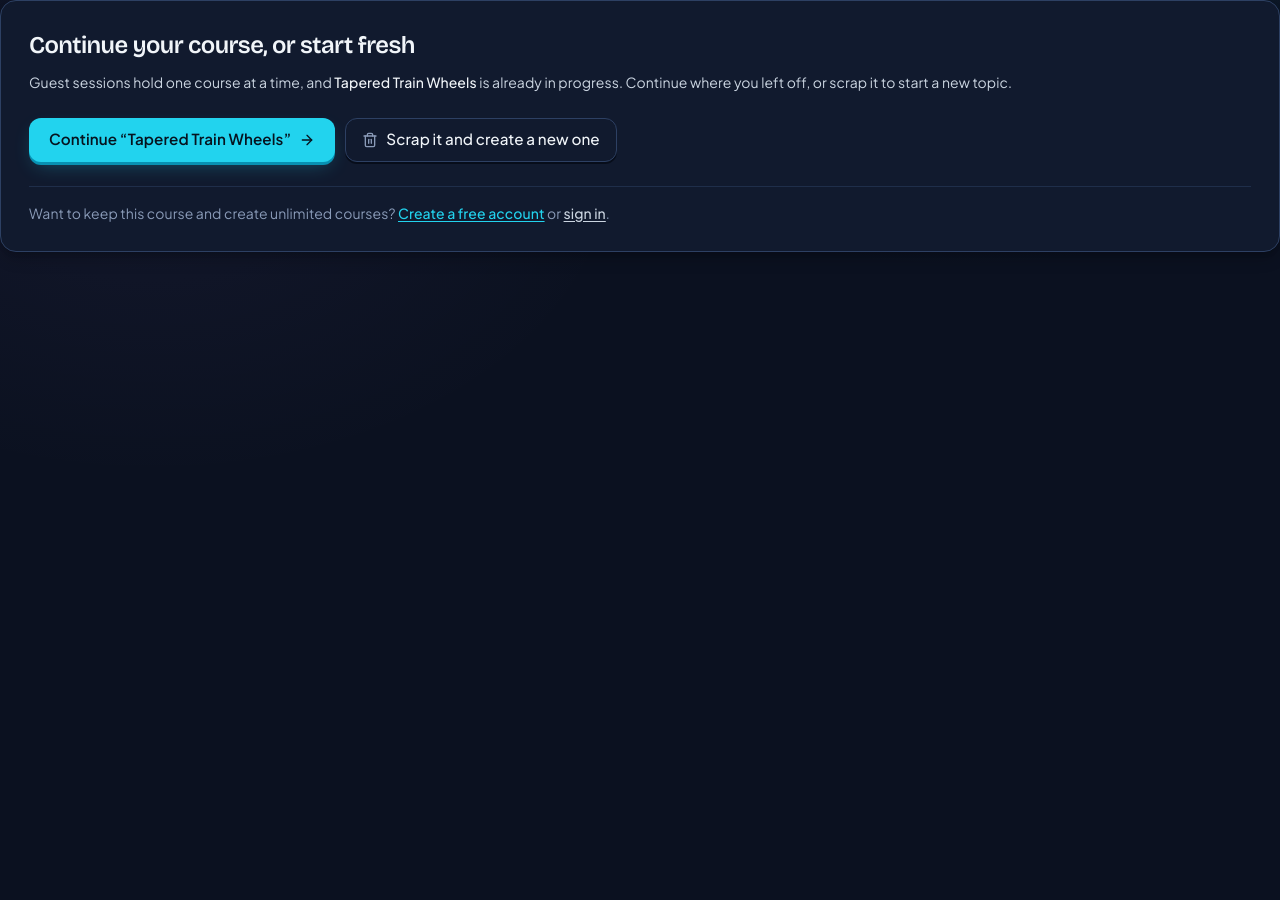
Test: GuestCourseGate › offers Continue and Scrap (with confirmation) for an existing guest course and never shows the new-topic prompt
Later steps or results of the test are not shown.
Click the button "Scrap it and create a new one" at (481, 140), box x1=345 y1=118 x2=617 y2=162
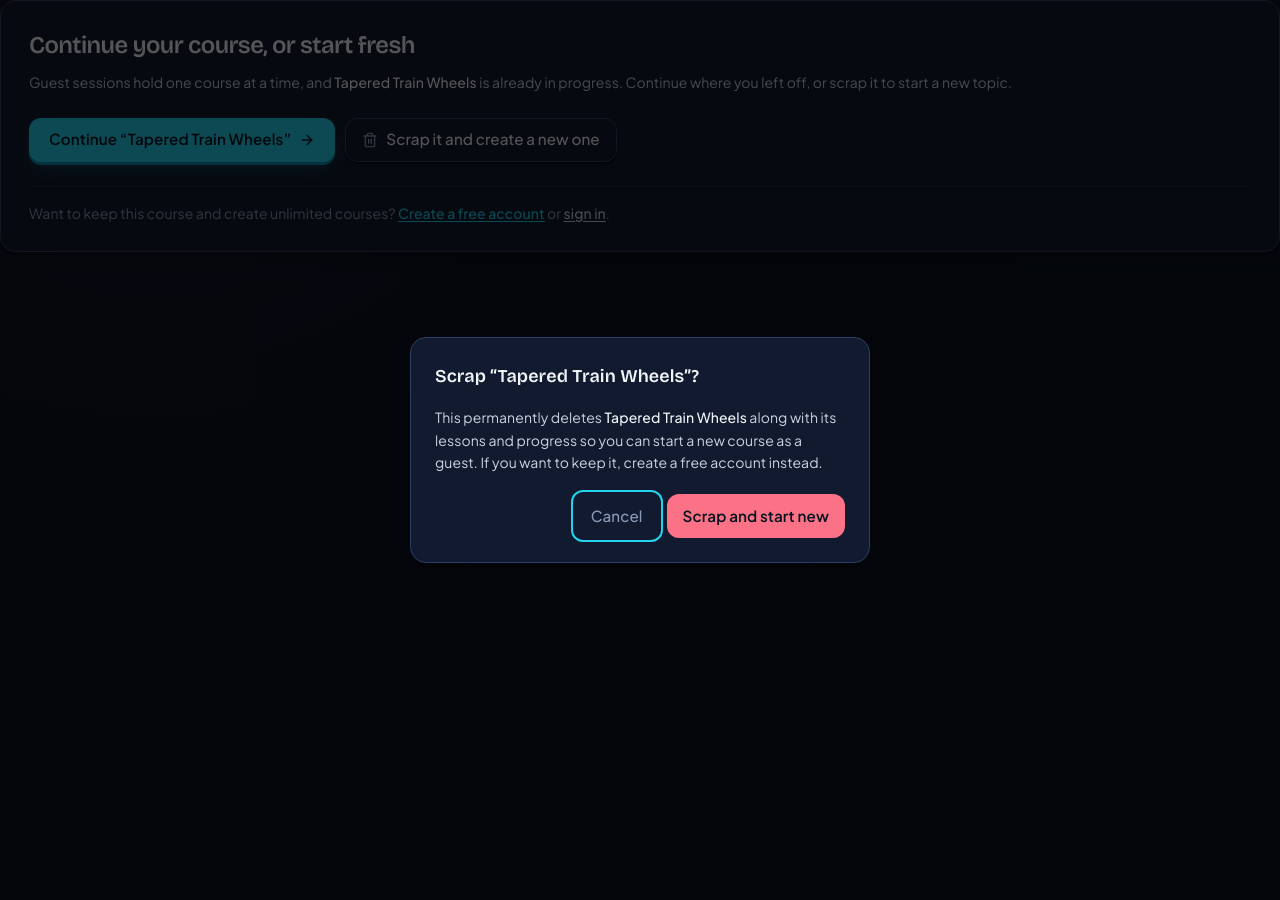
Now the dialog "Scrap “Tapered Train Wheels”?" is shown, box x1=410 y1=337 x2=870 y2=563
